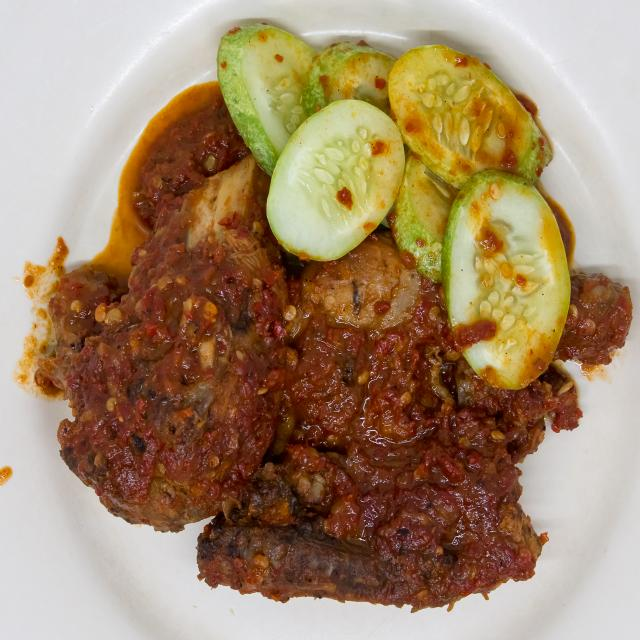Ayam-Bumbu-Rujak: (40, 93, 570, 617)
